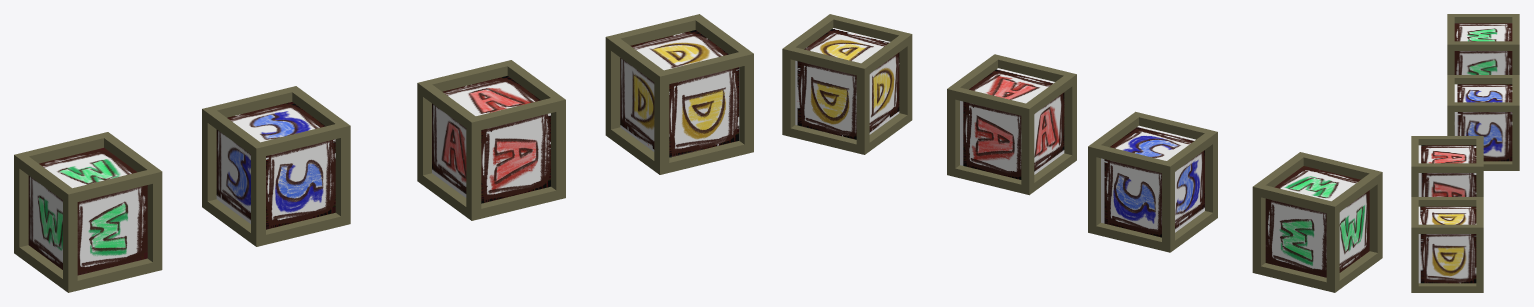
Rendered from WoodenBox.fbx.
3 renders of one model, left to right at view 1: azimuth 30°, elevation 25°; view 2: azimuth 150°, elevation 25°; view 3: azimuth 270°, elevation 25°, orthographic. The views are drawn at different scales.
Parts seen in each view (by area): view 1: WoodenBox.002, WoodenCube, WoodenBox, WoodenBox.001; view 2: WoodenBox.002, WoodenCube, WoodenBox, WoodenBox.001; view 3: WoodenBox.002, WoodenBox, WoodenBox.001, WoodenCube.
Part boxes in pixels (left/top/right/bottom): WoodenBox.002: left=605, top=14, right=753, bottom=174; WoodenCube: left=14, top=132, right=162, bottom=292; WoodenBox: left=202, top=86, right=350, bottom=246; WoodenBox.001: left=417, top=60, right=565, bottom=220; WoodenBox.002: left=782, top=14, right=912, bottom=154; WoodenCube: left=1252, top=152, right=1382, bottom=292; WoodenBox: left=1088, top=111, right=1217, bottom=252; WoodenBox.001: left=947, top=54, right=1076, bottom=195; WoodenBox.002: left=1411, top=197, right=1483, bottom=292; WoodenBox: left=1447, top=75, right=1519, bottom=170; WoodenBox.001: left=1411, top=136, right=1483, bottom=196; WoodenCube: left=1447, top=14, right=1519, bottom=74.
Size of the model in its own units: 1400 by 200 by 300.
